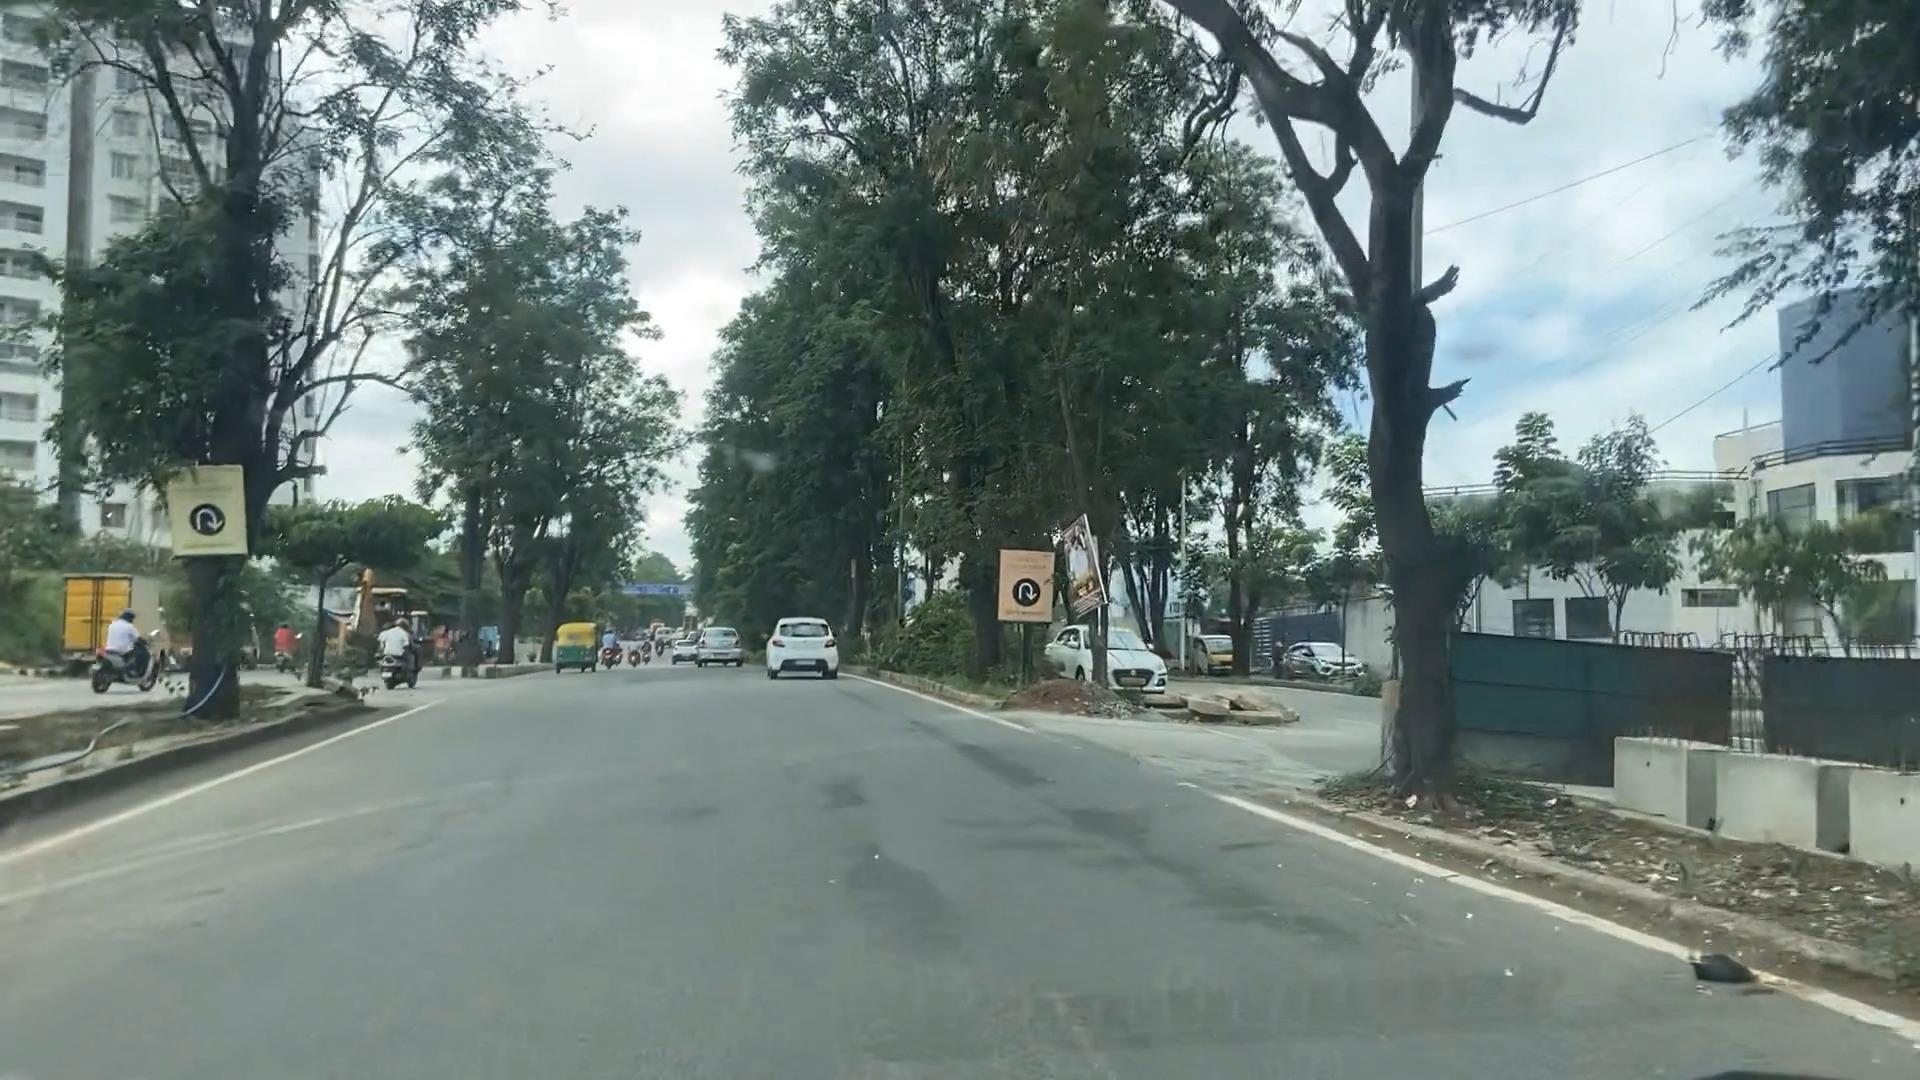LMV: (766, 612, 840, 675), (556, 622, 615, 686), (694, 620, 738, 665)
RoadDamages: (898, 712, 1068, 828), (1015, 980, 1138, 1080), (1200, 876, 1344, 959), (851, 855, 957, 953), (1084, 796, 1188, 876), (786, 762, 894, 811)
